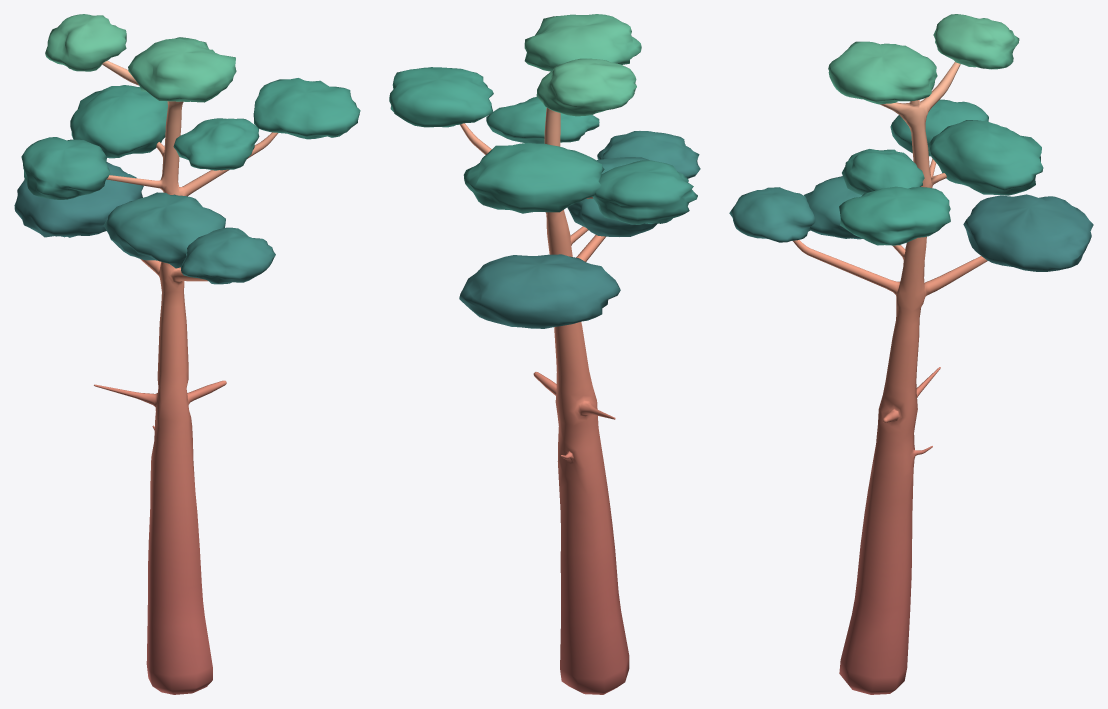
3 views of the same model, side by side, from view 1: azimuth 30°, elevation 25°; view 2: azimuth 150°, elevation 25°; view 3: azimuth 270°, elevation 25° (orthographic). The views are drawn at different scales.
Visible parts, largest first — view 1: Object_6; view 2: Object_6; view 3: Object_6.
Part boxes in pixels (x1=…): Object_6: x1=14, y1=14, x2=360, y2=694; Object_6: x1=389, y1=14, x2=700, y2=694; Object_6: x1=729, y1=14, x2=1093, y2=694.
Bounding box in the file's own units: 3.12 × 6.28 × 3.21.
1 material, 1 textured.
